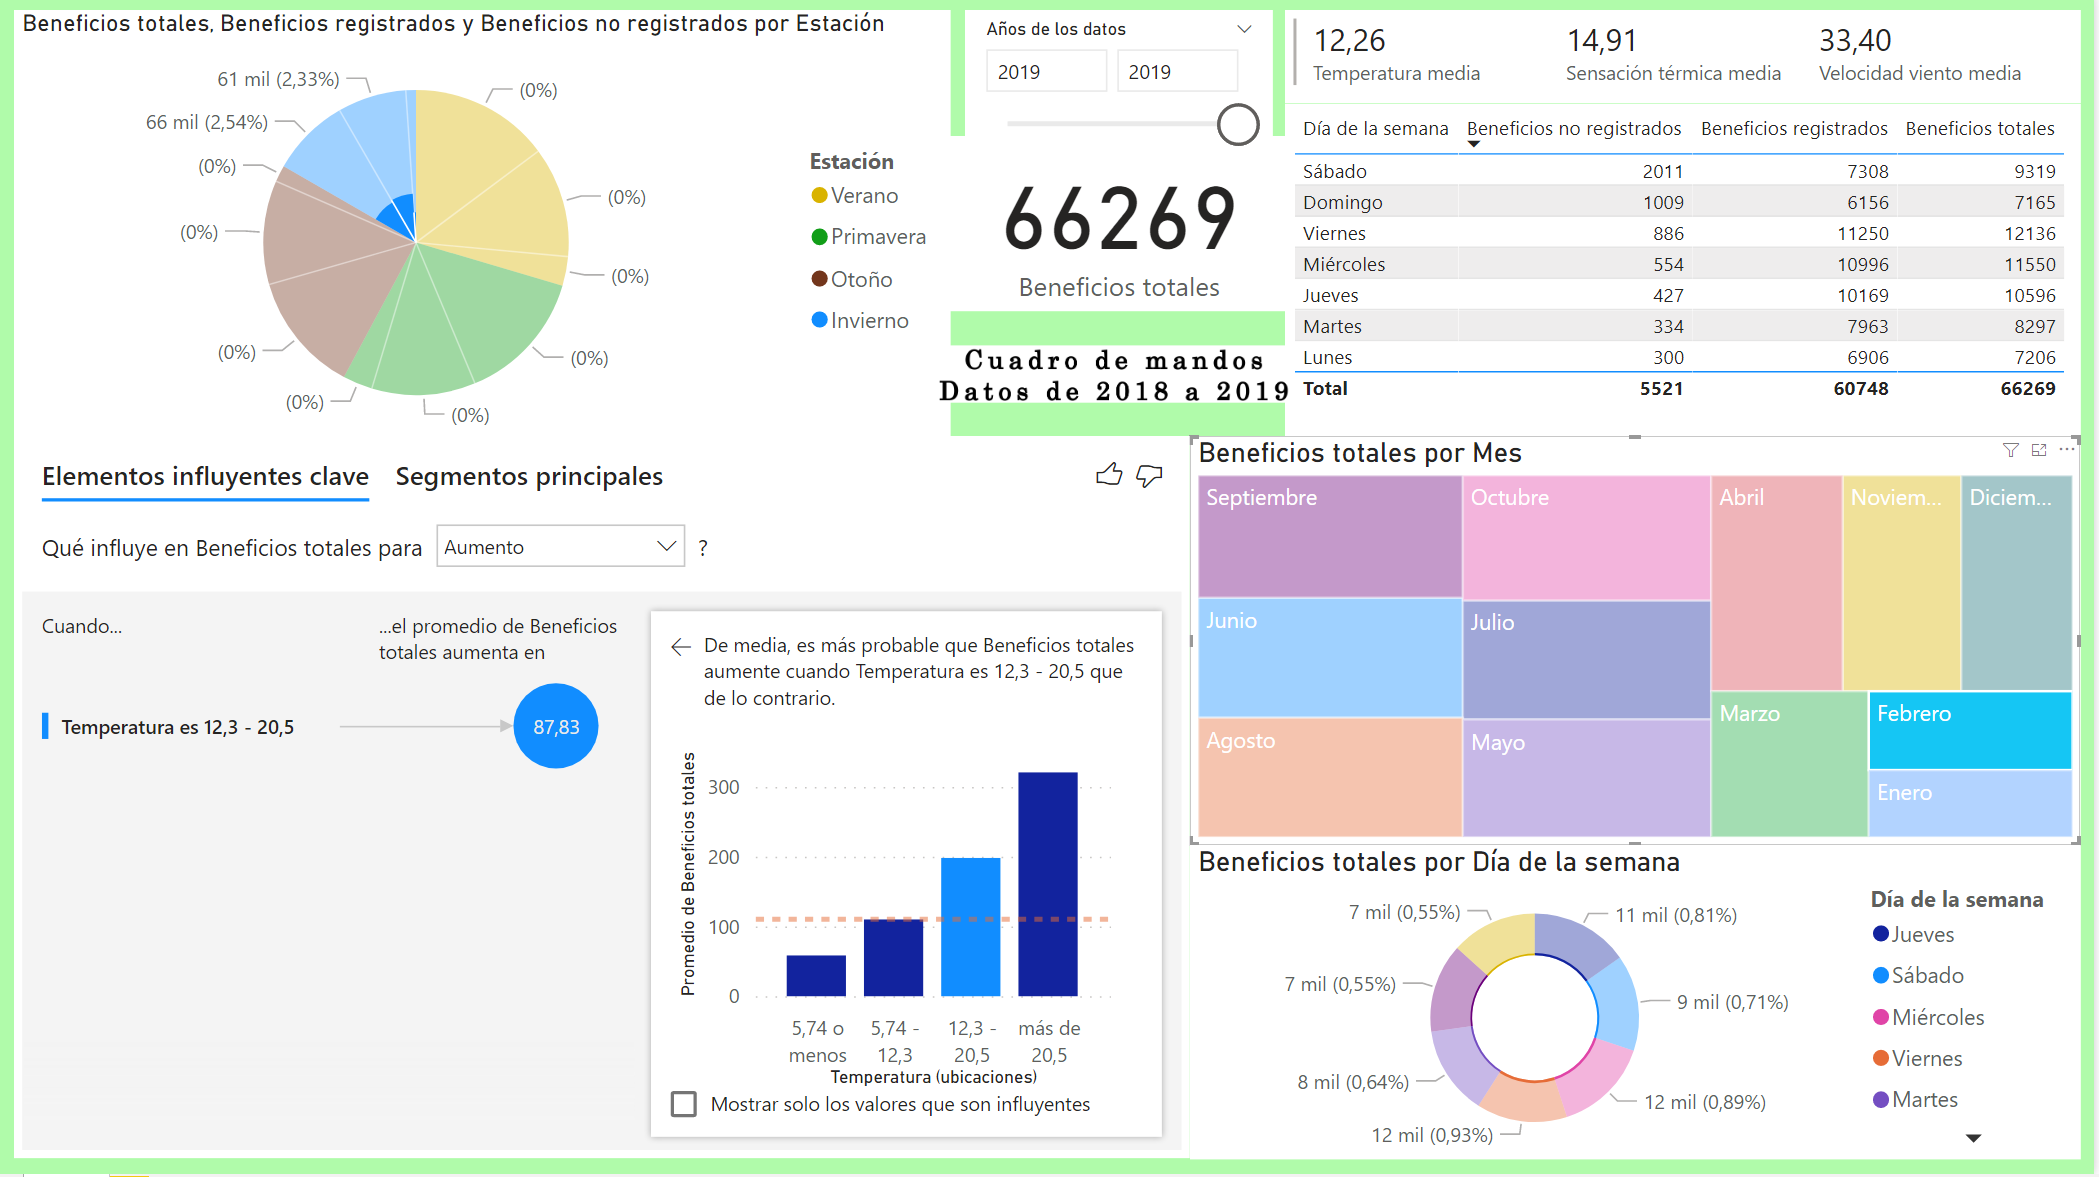

What the dashboard file says about the page in this screenshot:
{"tool":"powerbi","page":{"name":"Página 1","canvas":[1280,720],"ordinal":0},"visuals":[{"type":"pieChart","fields":{"Category":["rentadebicis_texto.Estación"],"Y":["Sum(rentadebicis_texto.Rentas totales)","Sum(rentadebicis_texto.Rentas registrados)","Sum(rentadebicis_texto.Rentas no registrados)"]},"box":[9.8,9.2,571.8,268.1],"z":0},{"type":"card","fields":{"Values":["Sum(rentadebicis_texto.Rentas totales)"]},"box":[575.5,86.1,218.9,107],"z":1000},{"type":"multiRowCard","fields":{"Values":["Avg(rentadebicis_texto.Temperatura)","Avg(rentadebicis_texto.Sensación térmica)","Avg(rentadebicis_texto.Velocidad viento)"]},"box":[785.8,9.2,485.7,57.2],"z":2000},{"type":"tableEx","fields":{"Values":["rentadebicis_texto.Día de la semana","Sum(rentadebicis_texto.Rentas no registrados)","Sum(rentadebicis_texto.Rentas registrados)","Sum(rentadebicis_texto.Rentas totales)"]},"box":[785.8,66.4,485.7,204.1],"z":3000},{"type":"treemap","fields":{"Values":["Sum(rentadebicis_texto.Rentas totales)"],"Group":["rentadebicis_texto.Mes"]},"box":[728,269.3,543.5,249.6],"z":4000},{"type":"keyDriversVisual","fields":{"Target":["rentadebicis_texto.Rentas totales"],"ExplainBy":["Sum(rentadebicis_texto.Temperatura)","rentadebicis_texto.Estación"]},"box":[9.8,269.3,718.2,441.5],"z":5000},{"type":"slicer","fields":{"Values":["rentadebicis_texto.Año"]},"box":[590.5,9.2,188.1,106.9],"z":6000},{"type":"image","box":[567.5,193.1,226.9,77.5],"z":7000},{"type":"donutChart","fields":{"Category":["rentadebicis_texto.Día de la semana"],"Y":["Sum(rentadebicis_texto.Rentas totales)"]},"box":[728,518.9,543.5,191.8],"z":8000}]}

Visuals, with their boxes in screenshot pixels (x1, y1, x2, y2), scaled from the page's 1280x720 canvas onto the 2099x1177 screenshot:
pieChart - rentadebicis_texto.Estación x Sum(rentadebicis_texto.Rentas totales): (left=16, top=15, right=954, bottom=453)
card - Sum(rentadebicis_texto.Rentas totales): (left=944, top=141, right=1303, bottom=316)
multiRowCard - Avg(rentadebicis_texto.Temperatura) x Avg(rentadebicis_texto.Sensación térmica): (left=1289, top=15, right=2085, bottom=109)
tableEx - rentadebicis_texto.Día de la semana x Sum(rentadebicis_texto.Rentas no registrados): (left=1289, top=109, right=2085, bottom=442)
treemap - Sum(rentadebicis_texto.Rentas totales) x rentadebicis_texto.Mes: (left=1194, top=440, right=2085, bottom=848)
keyDriversVisual - rentadebicis_texto.Rentas totales x Sum(rentadebicis_texto.Temperatura): (left=16, top=440, right=1194, bottom=1162)
slicer - rentadebicis_texto.Año: (left=968, top=15, right=1277, bottom=190)
image: (left=931, top=316, right=1303, bottom=442)
donutChart - rentadebicis_texto.Día de la semana x Sum(rentadebicis_texto.Rentas totales): (left=1194, top=848, right=2085, bottom=1162)
